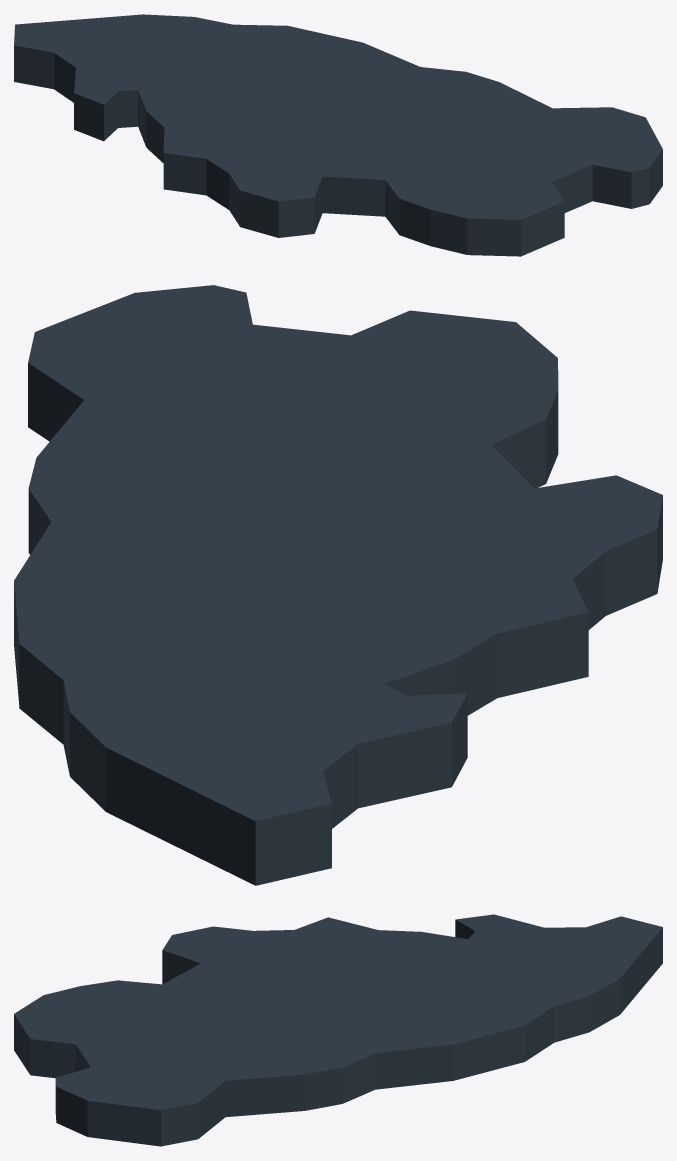
File: AW_Ground04.fbx
3 renders of one model, top to bottom at view 1: azimuth 30°, elevation 25°; view 2: azimuth 150°, elevation 25°; view 3: azimuth 270°, elevation 25°, orthographic. The views are drawn at different scales.
Visible parts, largest first — view 1: AW_Ground04; view 2: AW_Ground04; view 3: AW_Ground04.
Boxes of the visible parts, left/top/right/bottom form: AW_Ground04: left=14, top=14, right=662, bottom=256; AW_Ground04: left=14, top=285, right=662, bottom=885; AW_Ground04: left=14, top=914, right=662, bottom=1146.
Bounding box in the file's own units: 173 × 15 × 243.
Materials: 1 (1 with a texture image).
